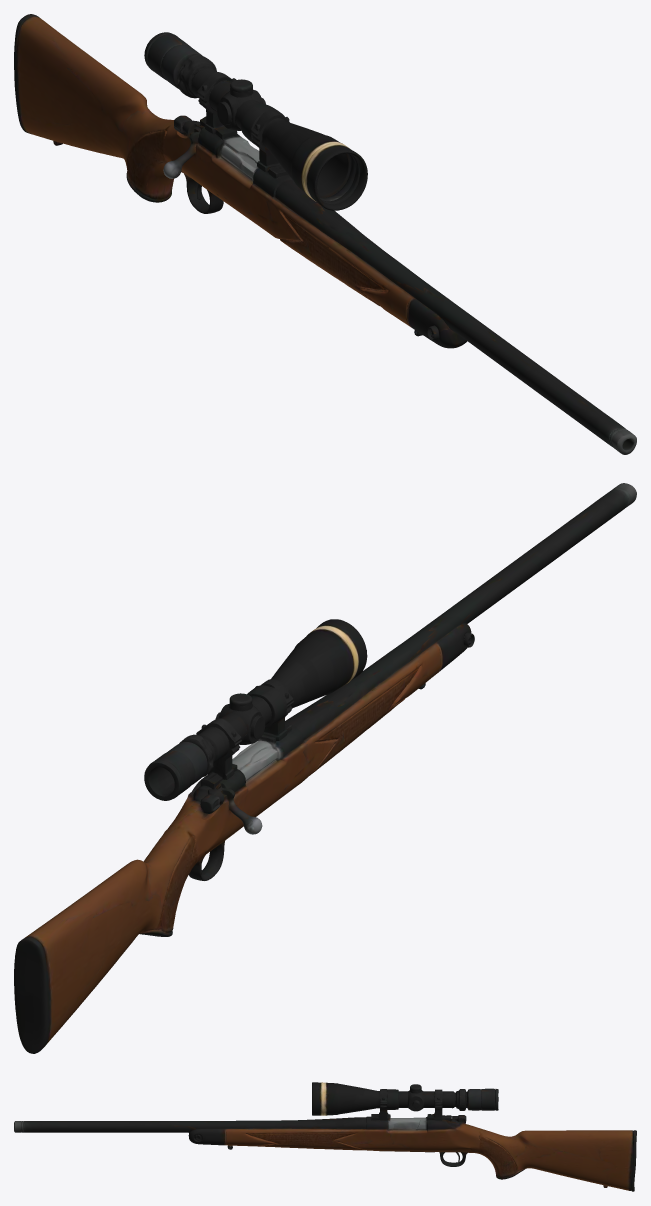
File: hunting.lo.glb
The picture shows the model from 3 angles, top to bottom: view 1: azimuth 30°, elevation 25°; view 2: azimuth 150°, elevation 25°; view 3: azimuth 270°, elevation 25°; orthographic projection. The views are drawn at different scales.
Parts seen in each view (by area): view 1: model; view 2: model; view 3: model.
Boxes of the visible parts, x1,y1,x2,y2 form: model: (14, 14, 636, 454); model: (14, 483, 636, 1053); model: (14, 1082, 636, 1191).
Bounding box in the file's own units: 0.1379 × 0.3618 × 1.9.
1 material, 1 textured.
